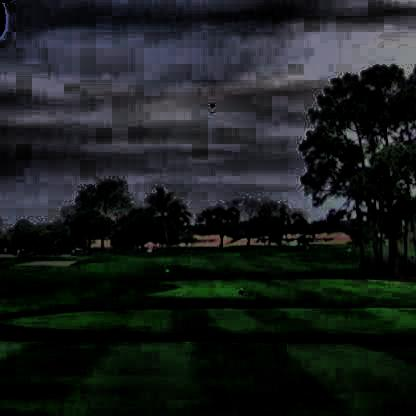golfball: (207, 98, 211, 104)
